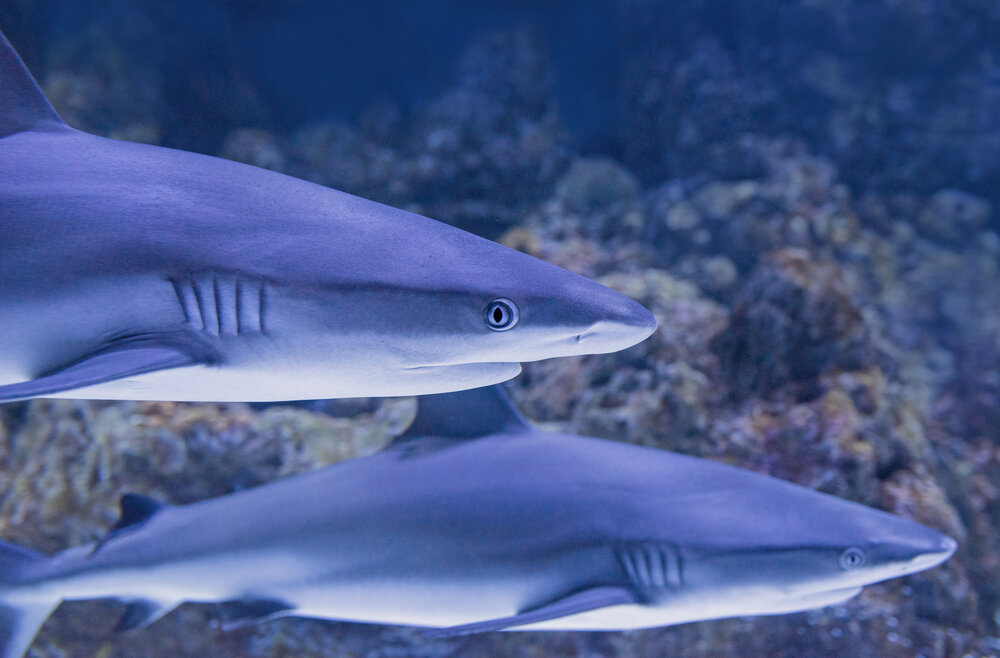shark: (1, 386, 970, 658), (1, 41, 678, 412)
